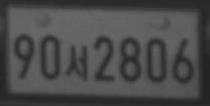0: (39, 34, 61, 80), (146, 38, 168, 83)
2: (92, 36, 116, 81)
6: (172, 37, 194, 84)
8: (119, 37, 142, 81)
9: (13, 33, 36, 78)
서: (64, 44, 89, 81)
